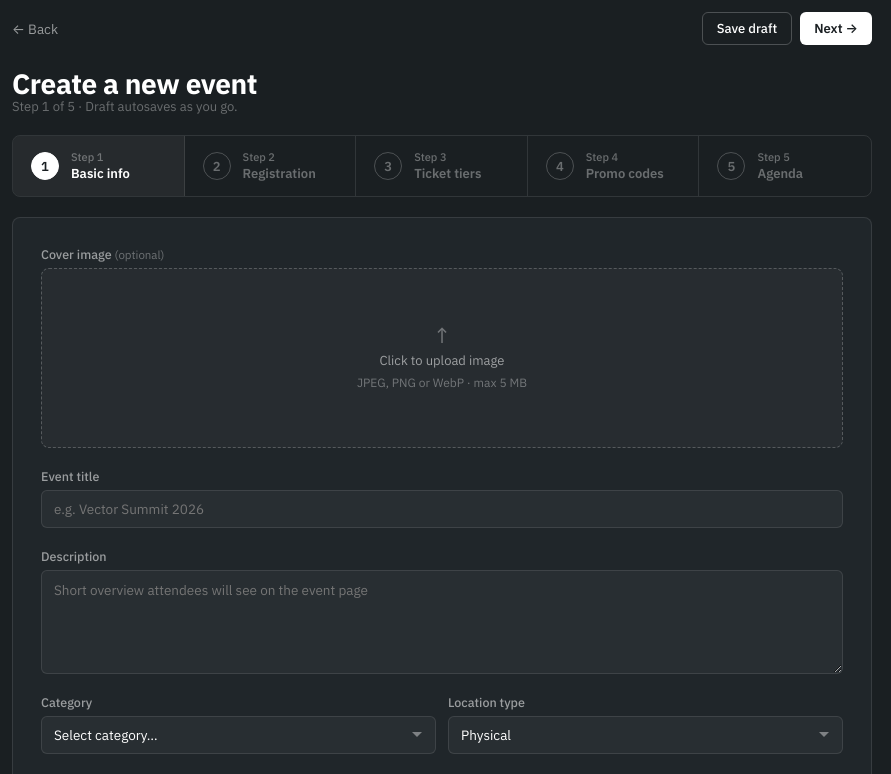
Scenario: CreateEvent › shows error flash when title is missing and Next is clicked
Step 1. Click the button "Next →" → x=836, y=28, box [800,12,872,45]
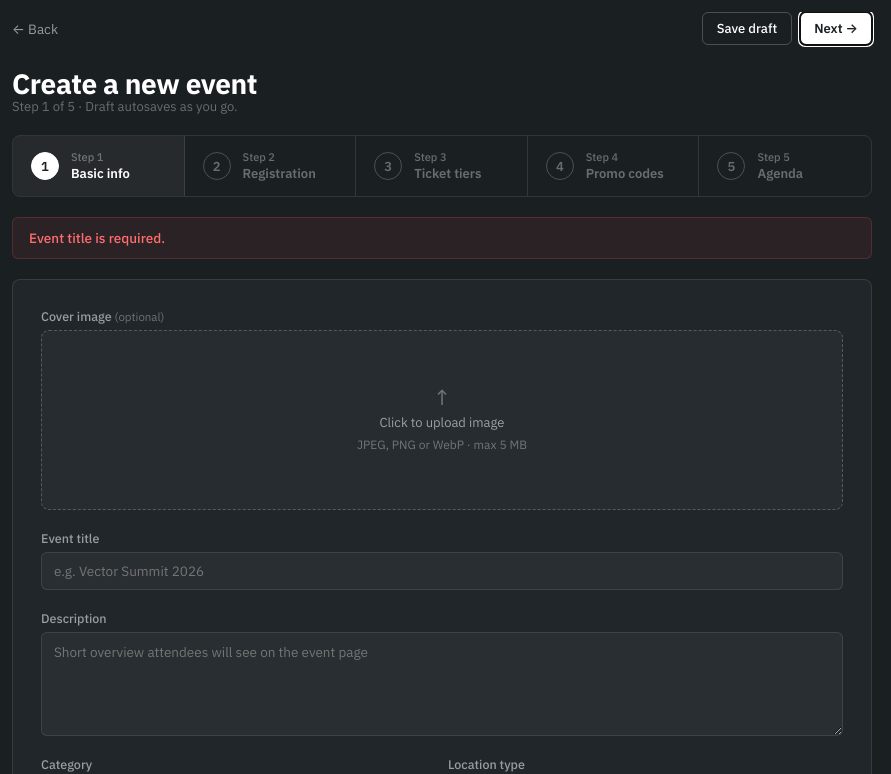
expect the text "Event title is required." is shown: met, box [12,217,872,259]
